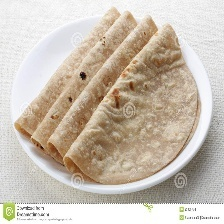roti: (12, 7, 201, 184)
